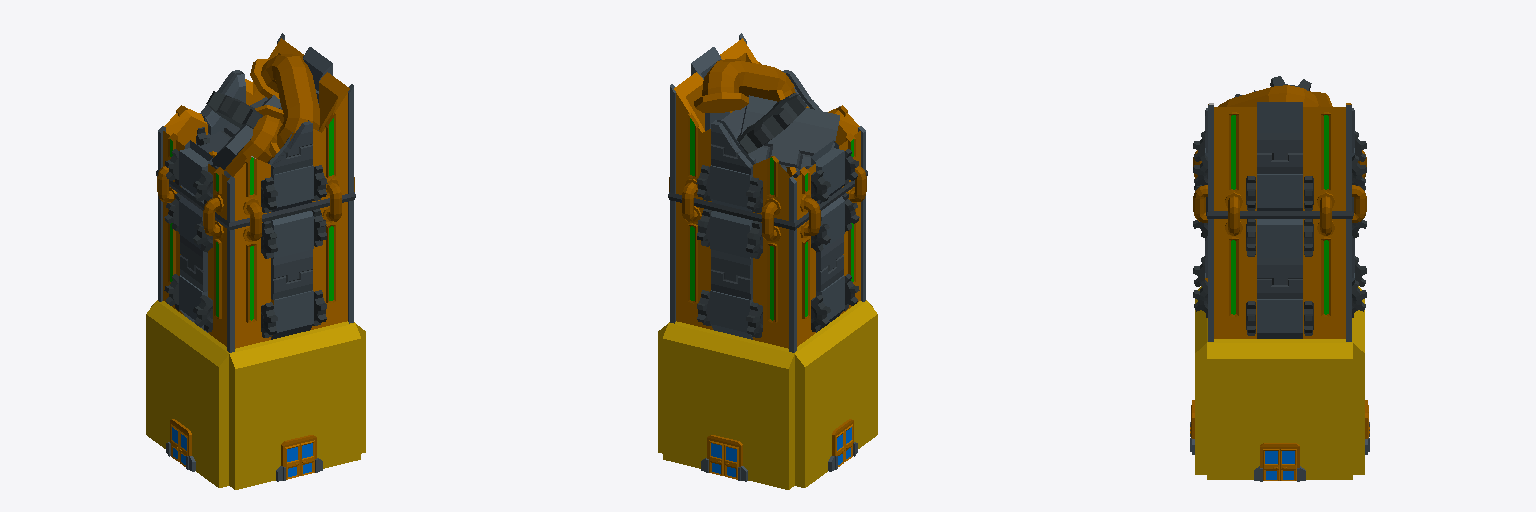
3 views of the same model, side by side, from view 1: azimuth 30°, elevation 25°; view 2: azimuth 150°, elevation 25°; view 3: azimuth 270°, elevation 25° (orthographic).
Parts seen in each view (by area): view 1: Cube.047_Cube.010; view 2: Cube.047_Cube.010; view 3: Cube.047_Cube.010.
Part boxes in pixels (left/top/right/bottom): Cube.047_Cube.010: left=146, top=33, right=365, bottom=489; Cube.047_Cube.010: left=658, top=33, right=877, bottom=489; Cube.047_Cube.010: left=1190, top=76, right=1369, bottom=481.
Size of the model in its own units: 5.98 by 13.71 by 5.98.
2 materials, 1 textured.